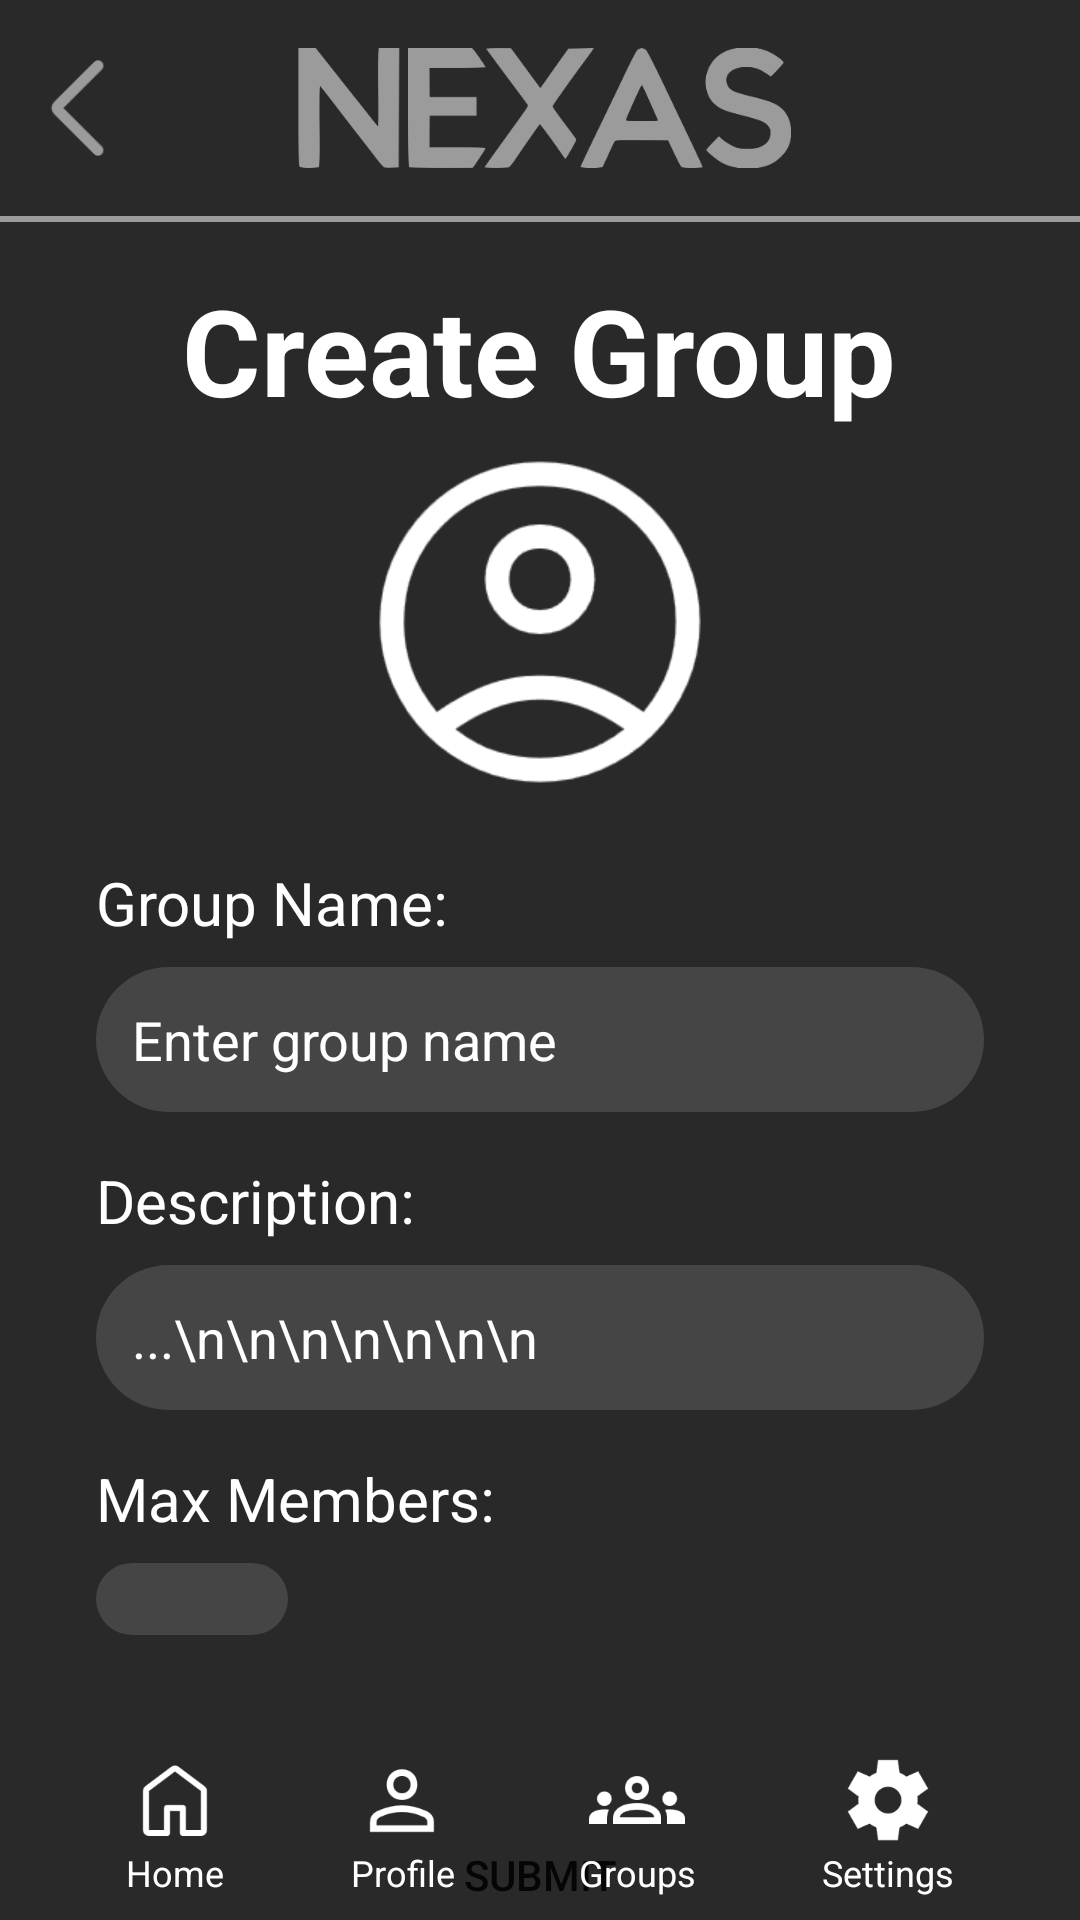

Where icons sit on this 1080 x 1920 app screen, as bbox=[x1, y1, x2, y2]:
account: bbox=[379, 461, 701, 783]
